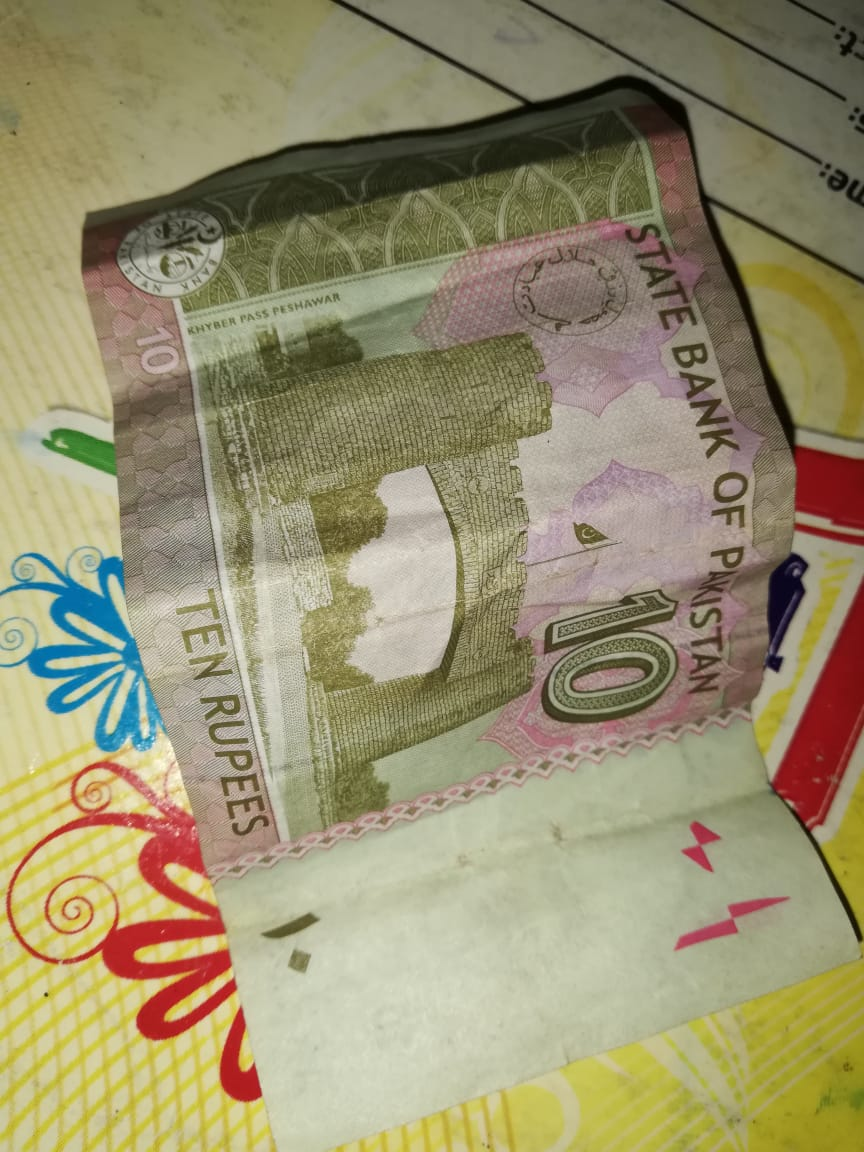10 rupee: (52, 44, 841, 1101)
